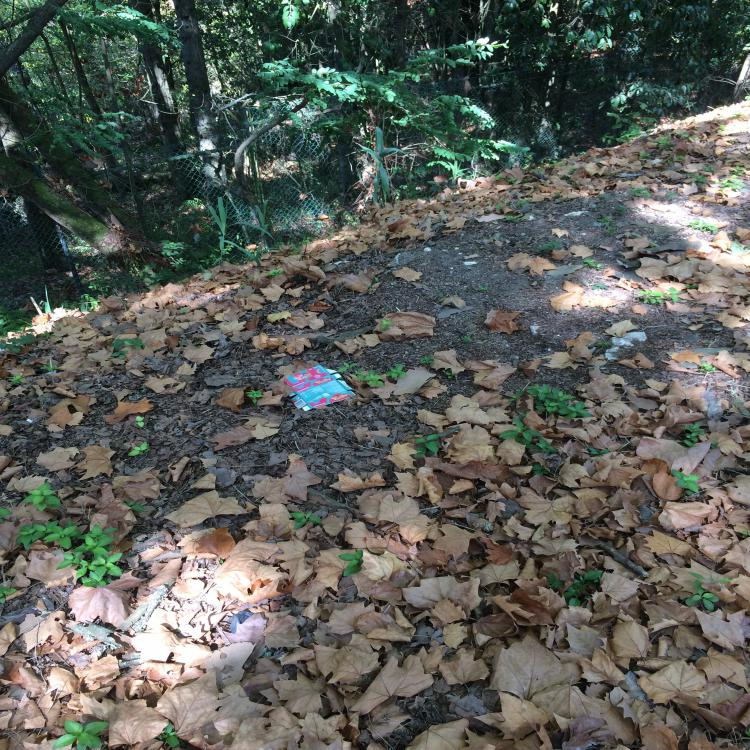Other carton: (284, 365, 356, 411)
Plastic film: (624, 670, 645, 701), (702, 391, 721, 420)
